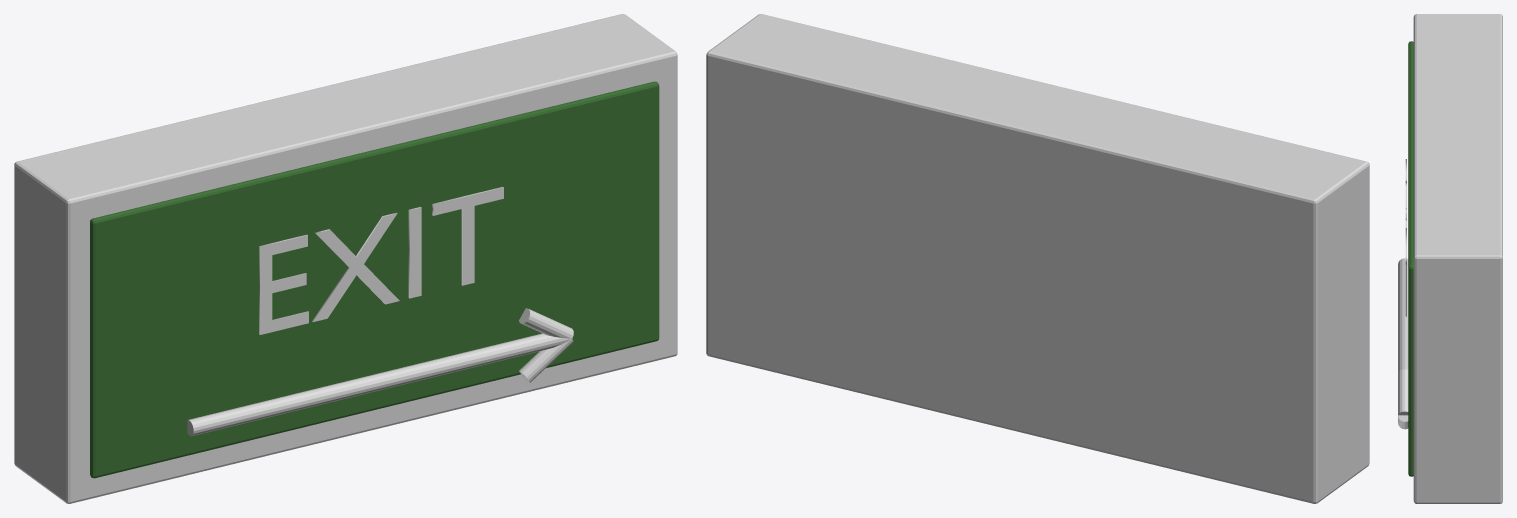
The model's file is emergency-exit-sign.glb.
The picture shows the model from 3 angles, left to right: view 1: azimuth 30°, elevation 25°; view 2: azimuth 150°, elevation 25°; view 3: azimuth 270°, elevation 25°; orthographic projection. The views are drawn at different scales.
Parts seen in each view (by area): view 1: Green_Face, Housing, Editable_Label_EXIT, Arrow_Shaft, Arrow_Tip.001, Arrow_Tip; view 2: Housing; view 3: Housing, Green_Face, Arrow_Shaft, Arrow_Tip.001, Editable_Label_EXIT, Arrow_Tip.
Boxes of the visible parts, <box> form: Green_Face: <box>90,81,659,478</box>; Housing: <box>14,14,677,503</box>; Editable_Label_EXIT: <box>259,187,503,334</box>; Arrow_Shaft: <box>187,333,571,436</box>; Arrow_Tip.001: <box>519,308,573,338</box>; Arrow_Tip: <box>519,339,573,382</box>; Housing: <box>706,14,1369,503</box>; Housing: <box>1413,14,1502,503</box>; Green_Face: <box>1408,41,1413,476</box>; Arrow_Shaft: <box>1398,258,1408,372</box>; Arrow_Tip.001: <box>1398,369,1408,415</box>; Editable_Label_EXIT: <box>1405,159,1406,316</box>; Arrow_Tip: <box>1398,415,1408,429</box>.
Bounding box in the file's own units: 0.42 × 0.2 × 0.0765.
